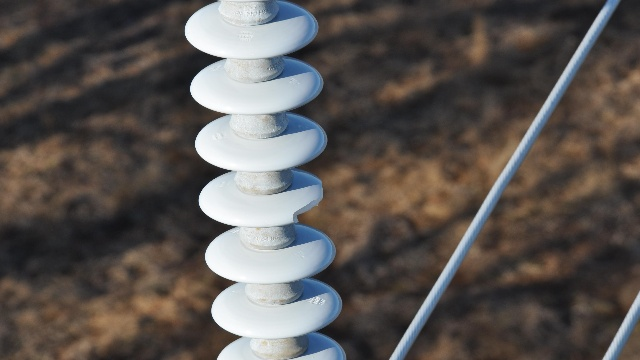broken_local: (287, 178, 330, 225)
insulator_unspecified: (184, 1, 347, 359)
